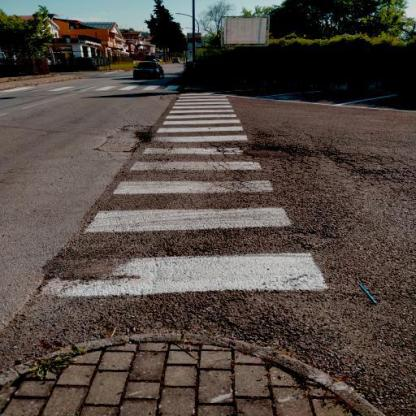crosswalk: (74, 177, 297, 239), (145, 125, 252, 146), (170, 101, 235, 111), (94, 83, 141, 95)
